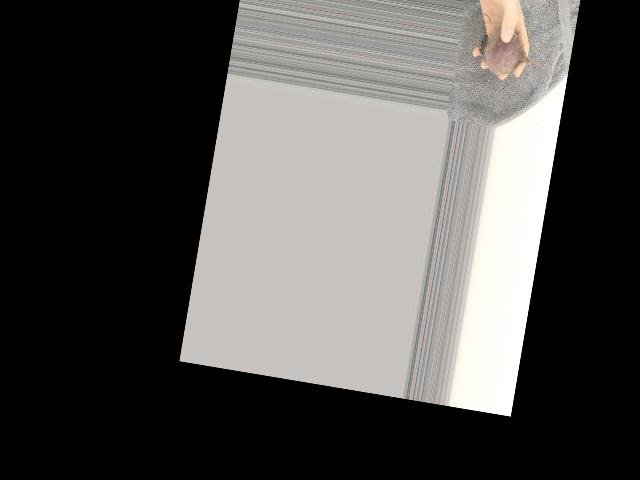beet: (476, 24, 560, 84)
